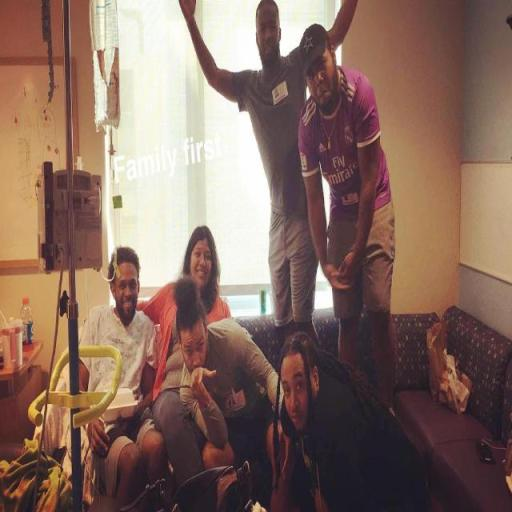Emirates: (322, 151, 360, 190)
